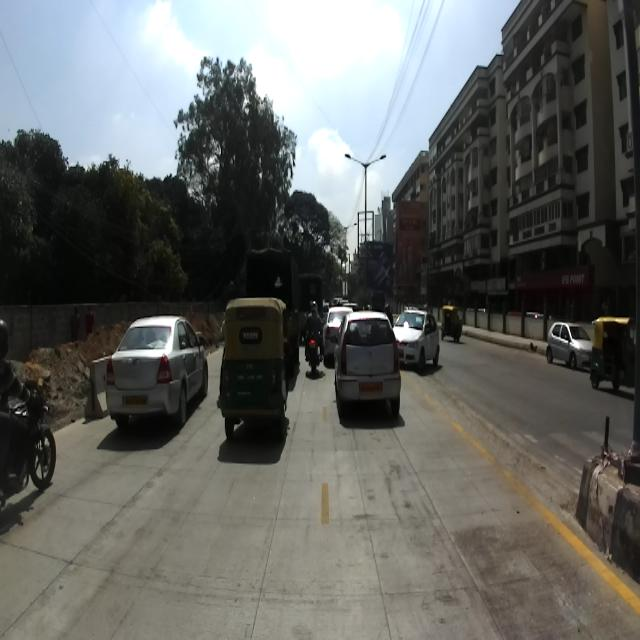auto ahead at: (220, 296, 294, 442)
car ahead at: (109, 308, 208, 429), (336, 312, 402, 426)
